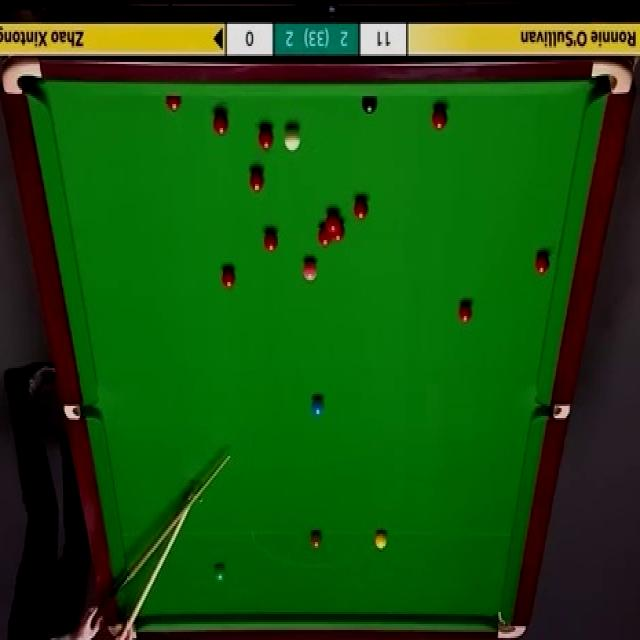black-ball: (361, 95, 378, 114)
blue-ball: (311, 395, 325, 418)
brown-ball: (310, 529, 324, 552)
green-ball: (213, 562, 228, 582)
pink-ball: (302, 258, 317, 286)
red-ball: (220, 262, 237, 291), (533, 251, 551, 278), (212, 111, 229, 137), (431, 106, 448, 131), (258, 125, 274, 151), (249, 167, 264, 193), (458, 300, 474, 324), (264, 228, 279, 253), (354, 197, 368, 221), (318, 222, 332, 246), (166, 96, 182, 116), (326, 210, 339, 230), (332, 222, 345, 242)
white-ball: (284, 122, 302, 154)
yellow-ball: (375, 531, 388, 551)
